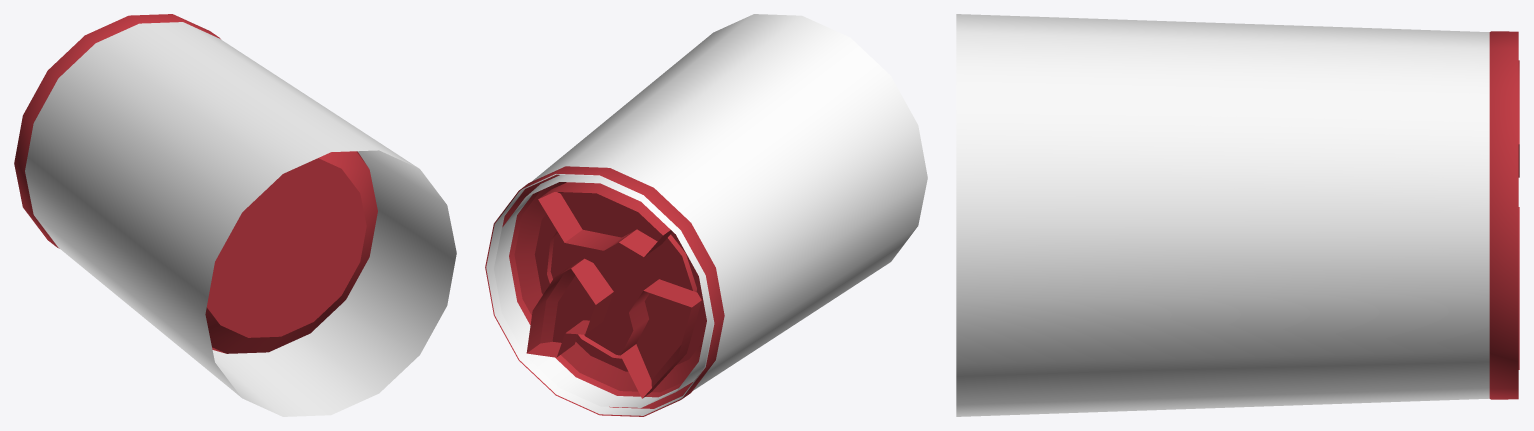
File: airhockey_themed_bb_geo.glb
The picture shows the model from 3 angles, left to right: view 1: azimuth 30°, elevation 25°; view 2: azimuth 150°, elevation 25°; view 3: azimuth 270°, elevation 25°; orthographic projection. The views are drawn at different scales.
Visible parts, largest first — view 1: blocking_1_bb; view 2: blocking_1_bb, blocking_1_bb_destroyed; view 3: blocking_1_bb, blocking_1_bb_destroyed.
Part boxes in pixels (x1,y1,x2,y2): blocking_1_bb: (14,14,456,416); blocking_1_bb: (485,14,927,416); blocking_1_bb_destroyed: (526,182,701,398); blocking_1_bb: (956,14,1518,416); blocking_1_bb_destroyed: (1518,60,1519,369).
Bounding box in the file's own units: 1.15 × 1.15 × 1.6.
